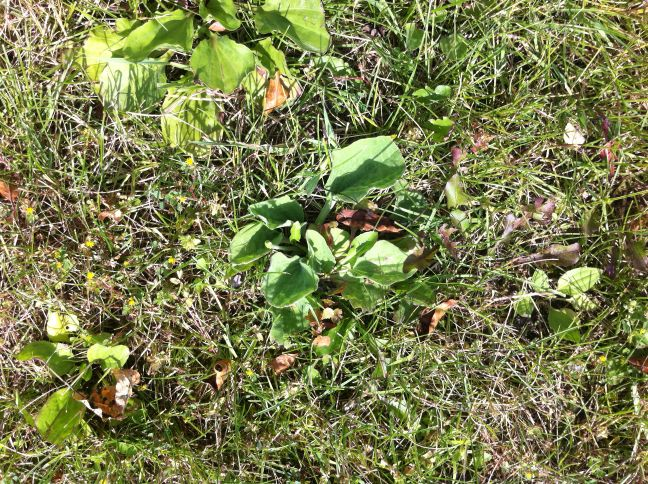weed1: (225, 133, 439, 343), (73, 1, 334, 142), (20, 306, 133, 454)
